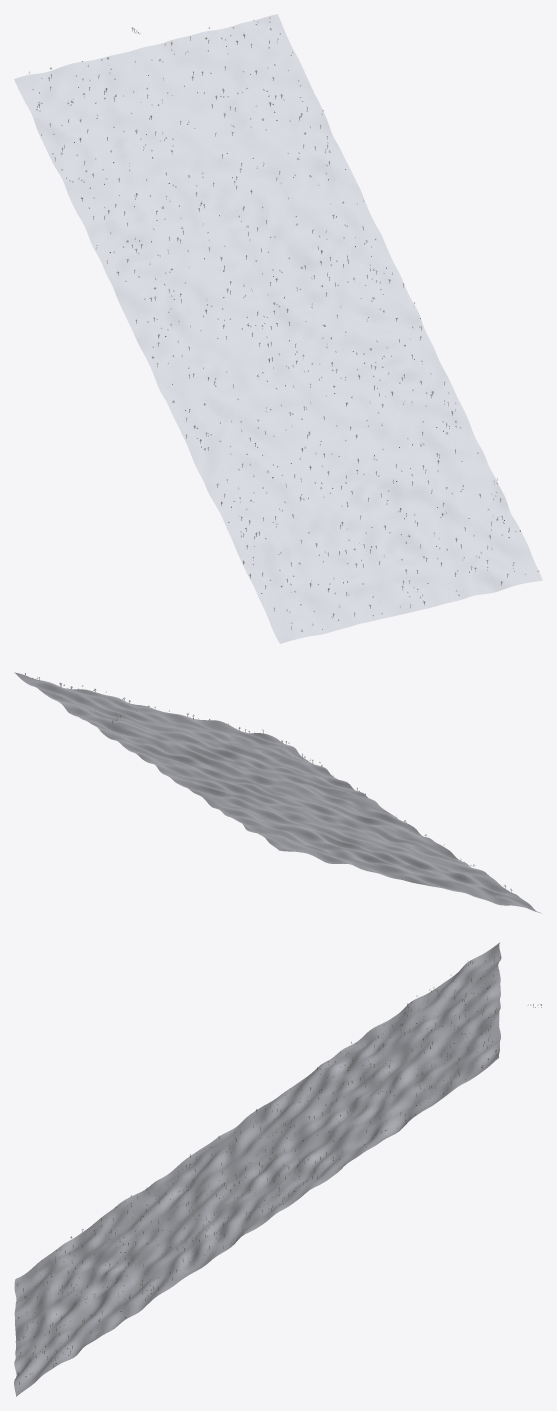
File: TestMap_Slide_Forest.fbx
3 views of the same model, one above another, from view 1: azimuth 30°, elevation 25°; view 2: azimuth 150°, elevation 25°; view 3: azimuth 270°, elevation 25° (orthographic). The views are drawn at different scales.
Parts seen in each view (by area): view 1: Plane; view 2: Plane; view 3: Plane.
Boxes of the visible parts, x1,y1,x2,y2 form: Plane: [14, 14, 542, 643]; Plane: [14, 672, 542, 913]; Plane: [14, 942, 501, 1396].
Size of the model in its own units: 9104 by 12404 by 17315.
